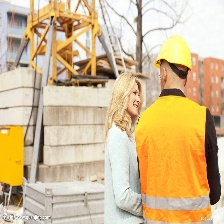helmet: (152, 35, 197, 71)
no-helmet: (112, 71, 141, 100)
person: (146, 35, 221, 224), (96, 70, 145, 224)
vest: (136, 102, 213, 224)
